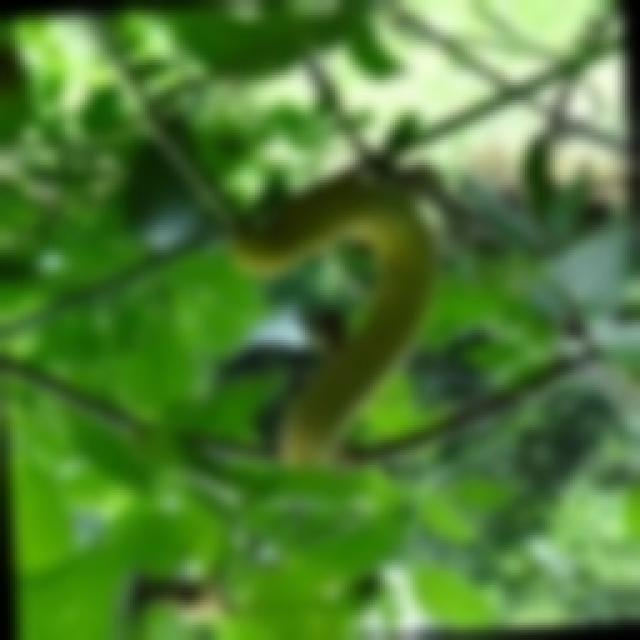Elderberry_rust: (222, 170, 440, 468)
